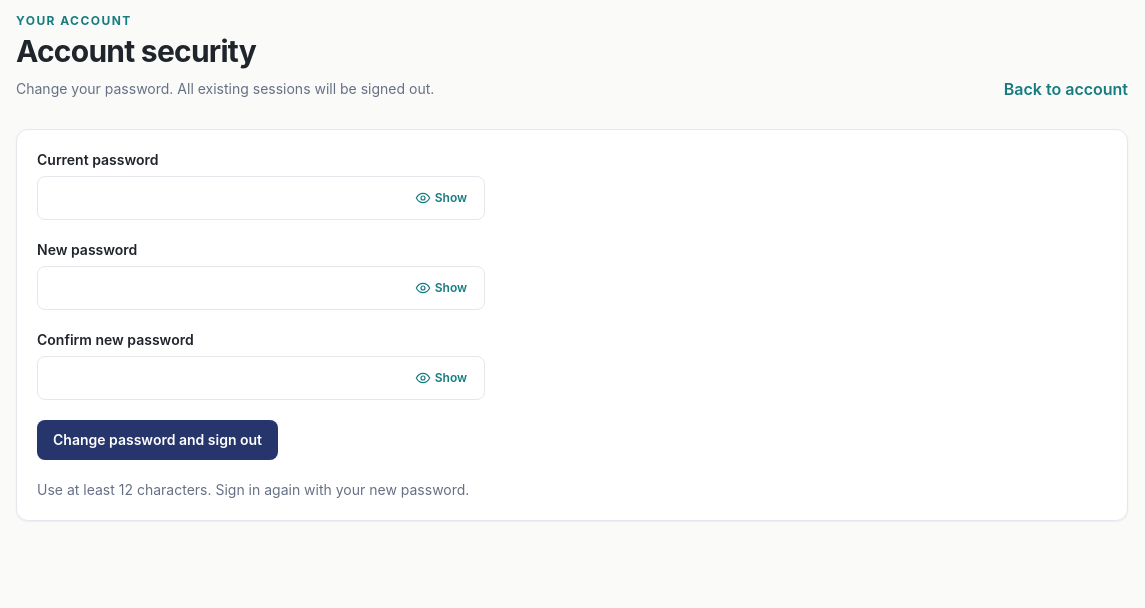
Test: account password security › does not report a successful password change on server rejection
The width and height of the screenshot is (1145, 608).
Type "WrongLongPassword34!" into the password field labelled "Current password" at (261, 198), box left=37, top=176, right=485, bottom=220
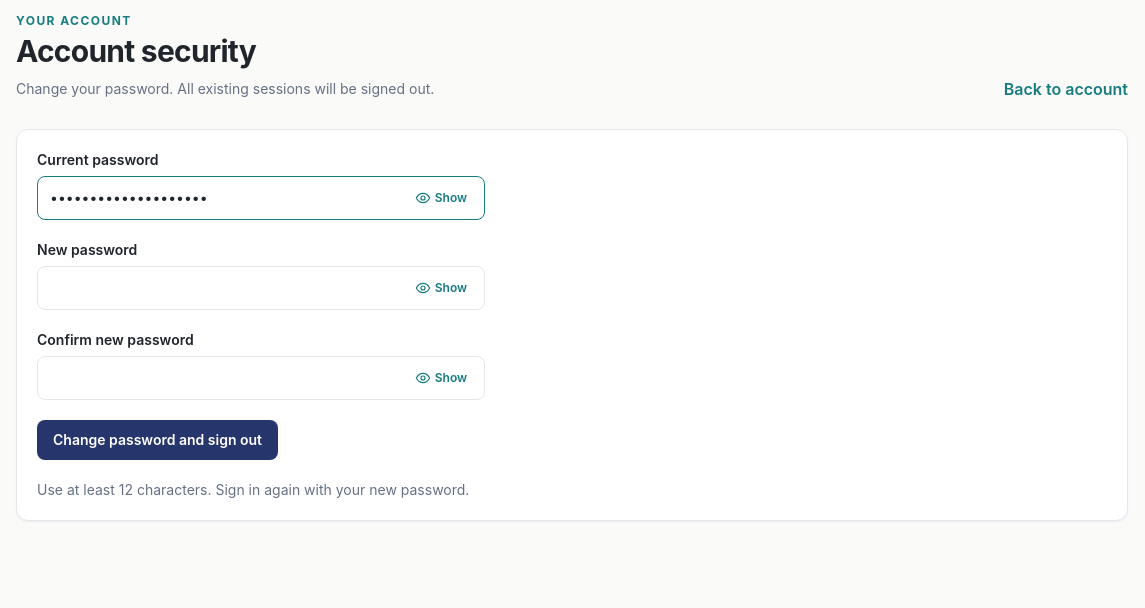
Type "NewVeryLongPassword54!" into the password field labelled "New password" at (261, 288), box left=37, top=266, right=485, bottom=310
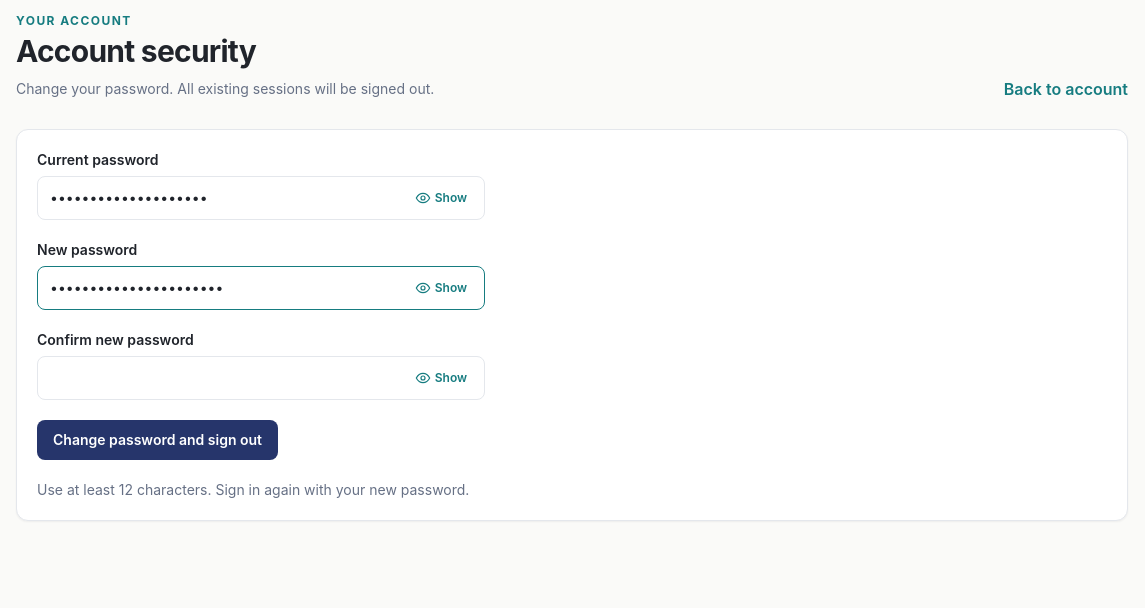
Type "NewVeryLongPassword54!" into the password field labelled "Confirm new password" at (261, 378), box left=37, top=356, right=485, bottom=400
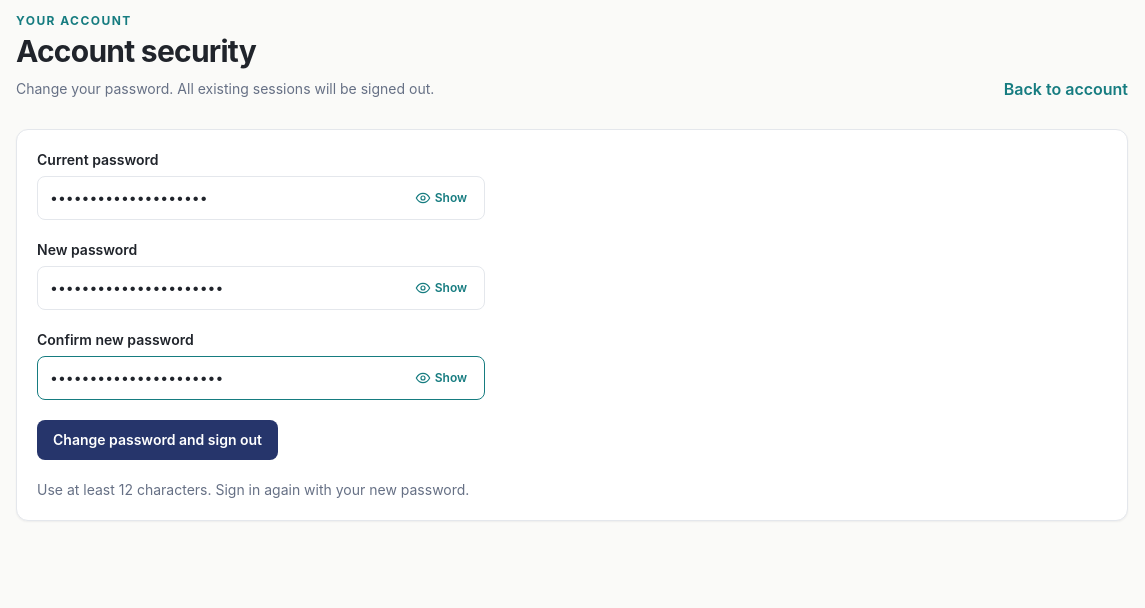
Click the button "Change password and sign out" at (158, 440), box left=37, top=420, right=278, bottom=460
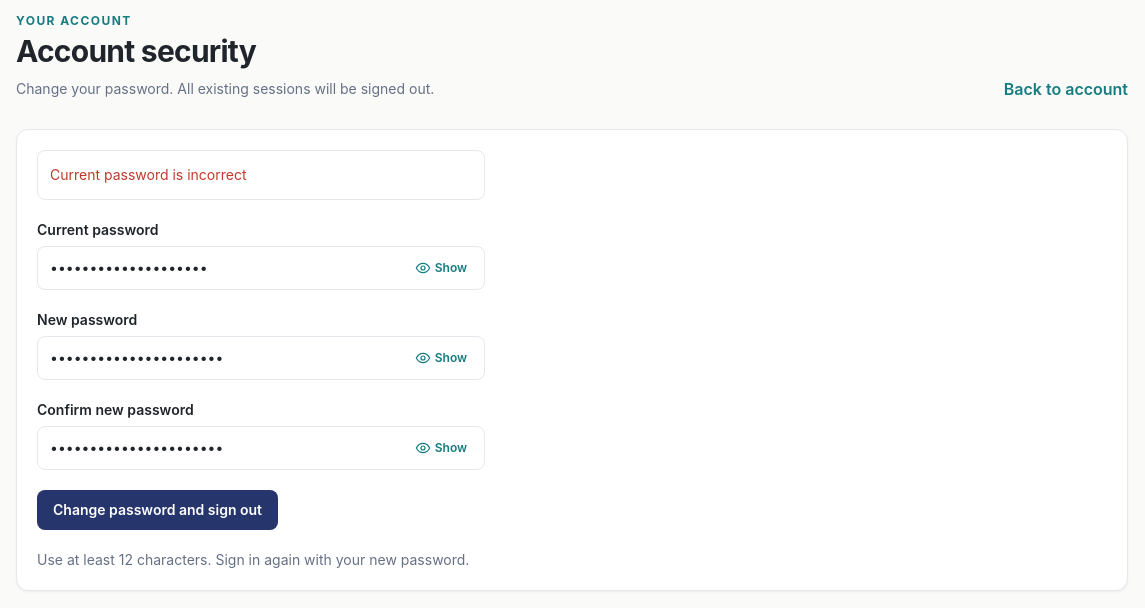
Check: the text "Current password is incorrect" is shown, box left=37, top=150, right=485, bottom=200
